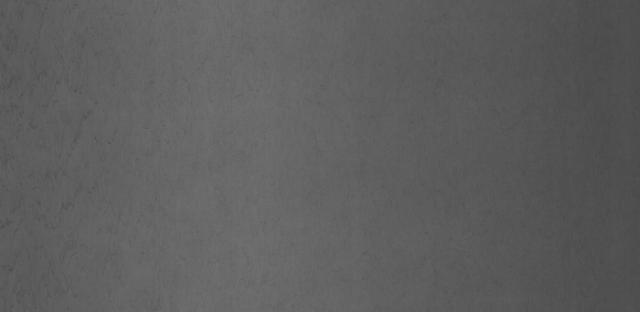silk_spot: (13, 48, 113, 208)
